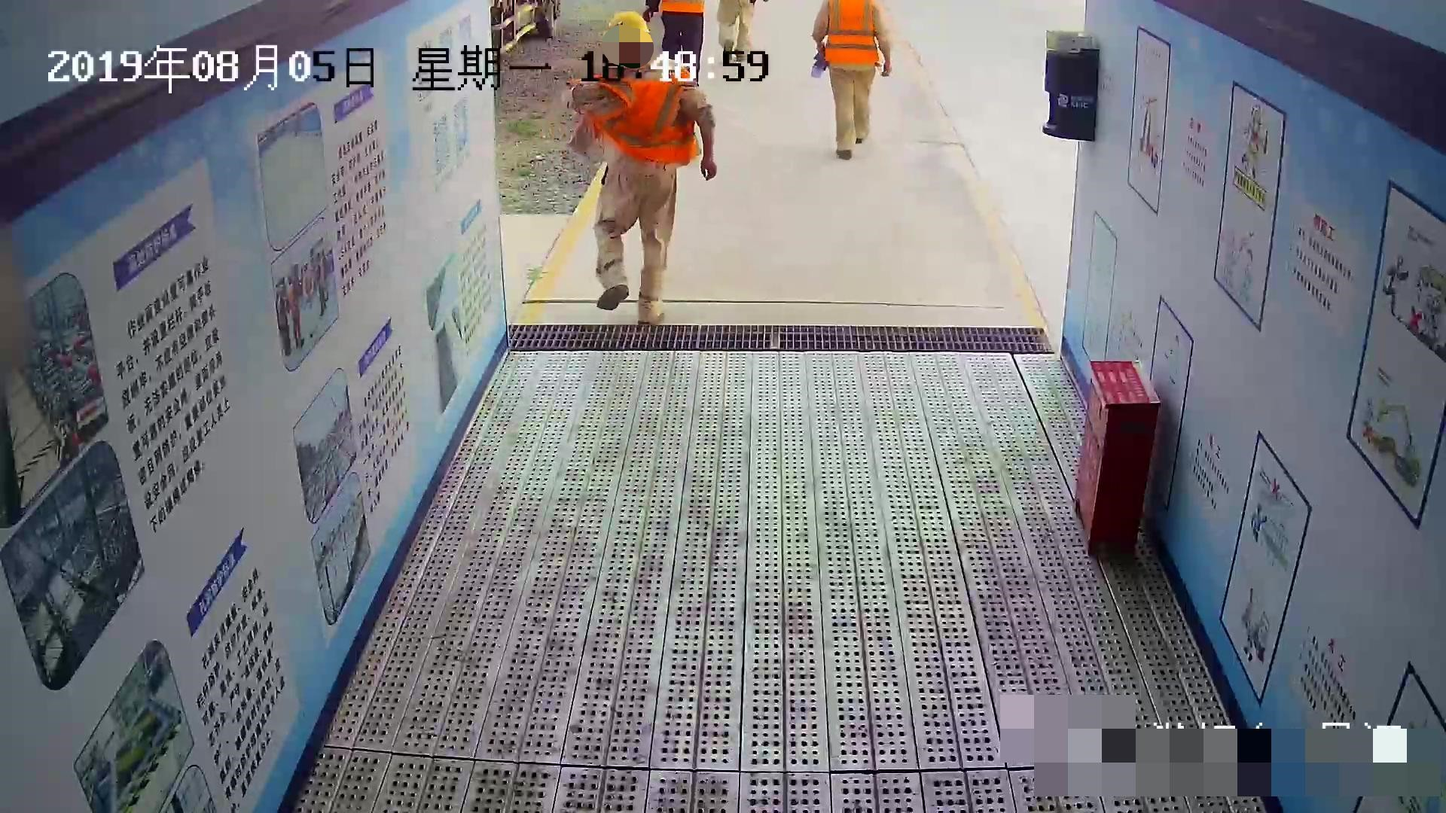hat: (601, 9, 651, 65)
person: (559, 8, 726, 341), (799, 1, 901, 165)
